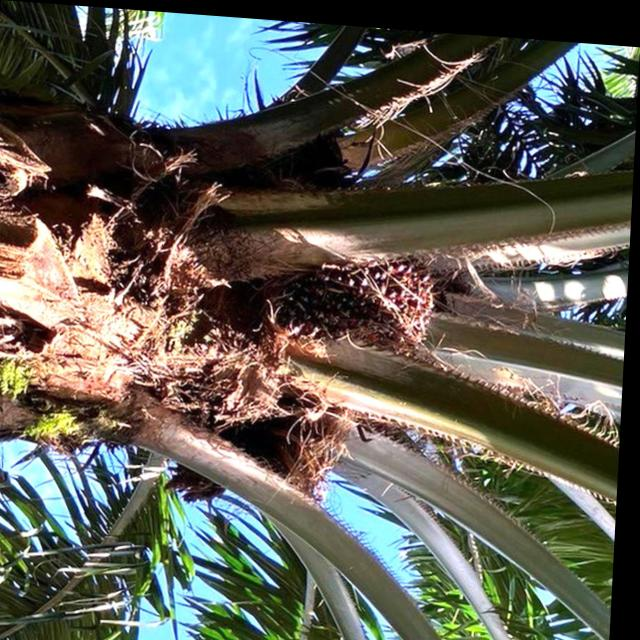ripe: (278, 236, 447, 354)
